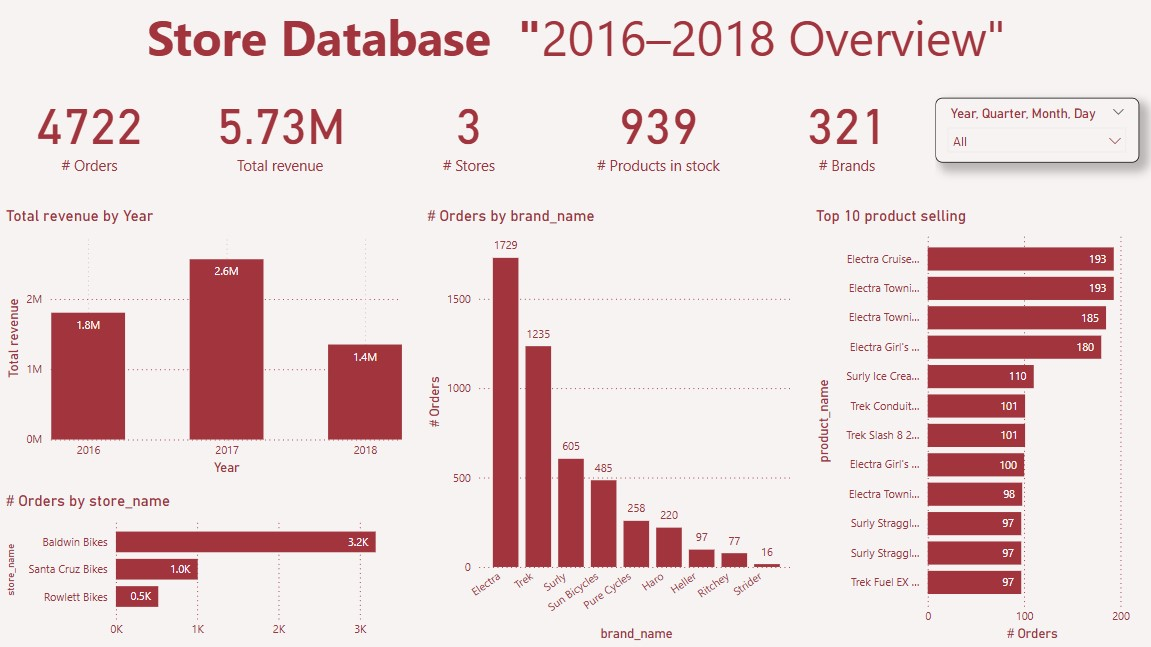

The page's visual inventory and layout, read from the dashboard file:
{"tool":"powerbi","page":{"name":"dashboard","canvas":[1280,720],"ordinal":0},"visuals":[{"type":"textbox","box":[8.5,5.7,1261.8,90.9],"z":0},{"type":"card","fields":{"Values":["Measure.# Orders"]},"box":[8.2,96.1,193.5,107],"z":1000},{"type":"card","fields":{"Values":["Measure.Total list price"]},"box":[216.1,96.1,194.9,107],"z":2000},{"type":"card","fields":{"Values":["Measure.# Stores"]},"box":[425.4,96.1,192.1,107],"z":3000},{"type":"card","fields":{"Values":["Measure.# Products"]},"box":[631.9,96.1,193.5,107],"z":4000},{"type":"slicer","fields":{"Values":["order_items.order_date.Variation.Date Hierarchy.Year","order_items.order_date.Variation.Date Hierarchy.Quarter","order_items.order_date.Variation.Date Hierarchy.Month","order_items.order_date.Variation.Date Hierarchy.Day"]},"box":[1033.3,113.9,223.7,71.4],"z":5000},{"type":"card","fields":{"Values":["Measure.# Brands"]},"box":[839.8,96.1,193.5,107],"z":6000},{"type":"barChart","title":"Top 10 product selling","fields":{"Category":["products.product_name"],"Y":["Measure.# Orders"]},"box":[898,233,372.3,481.7],"z":7000},{"type":"barChart","fields":{"Category":["order_items.store_name"],"Y":["Measure.# Orders"]},"box":[8.5,545.7,444.8,169.1],"z":8000},{"type":"lineClusteredColumnComboChart","fields":{"Category":["order_items.order_date.Variation.Date Hierarchy.Year","order_items.order_date.Variation.Date Hierarchy.Quarter","order_items.order_date.Variation.Date Hierarchy.Month","order_items.order_date.Variation.Date Hierarchy.Day"],"Y":["Measure.Total revenue"]},"box":[8.5,233,444.8,299.8],"z":9000},{"type":"clusteredColumnChart","fields":{"Category":["products.brand_name"],"Y":["Measure.# Orders"]},"box":[470.3,233,412.1,481.7],"z":10000}]}

Visuals, with their boxes in screenshot pixels (x1, y1, x2, y2), scaled from the page's 1280x720 canvas onto the 1151x647 screenshot:
textbox: detection(8, 5, 1142, 87)
card - Measure.# Orders: detection(7, 86, 181, 183)
card - Measure.Total list price: detection(194, 86, 370, 183)
card - Measure.# Stores: detection(383, 86, 555, 183)
card - Measure.# Products: detection(568, 86, 742, 183)
slicer - order_items.order_date.Variation.Date Hierarchy.Year x order_items.order_date.Variation.Date Hierarchy.Quarter: detection(929, 102, 1130, 167)
card - Measure.# Brands: detection(755, 86, 929, 183)
"Top 10 product selling" barChart: detection(807, 209, 1142, 642)
barChart - order_items.store_name x Measure.# Orders: detection(8, 490, 408, 642)
lineClusteredColumnComboChart - order_items.order_date.Variation.Date Hierarchy.Year x order_items.order_date.Variation.Date Hierarchy.Quarter: detection(8, 209, 408, 479)
clusteredColumnChart - products.brand_name x Measure.# Orders: detection(423, 209, 793, 642)
